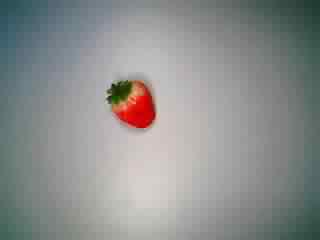strawberry: (100, 75, 159, 131)
